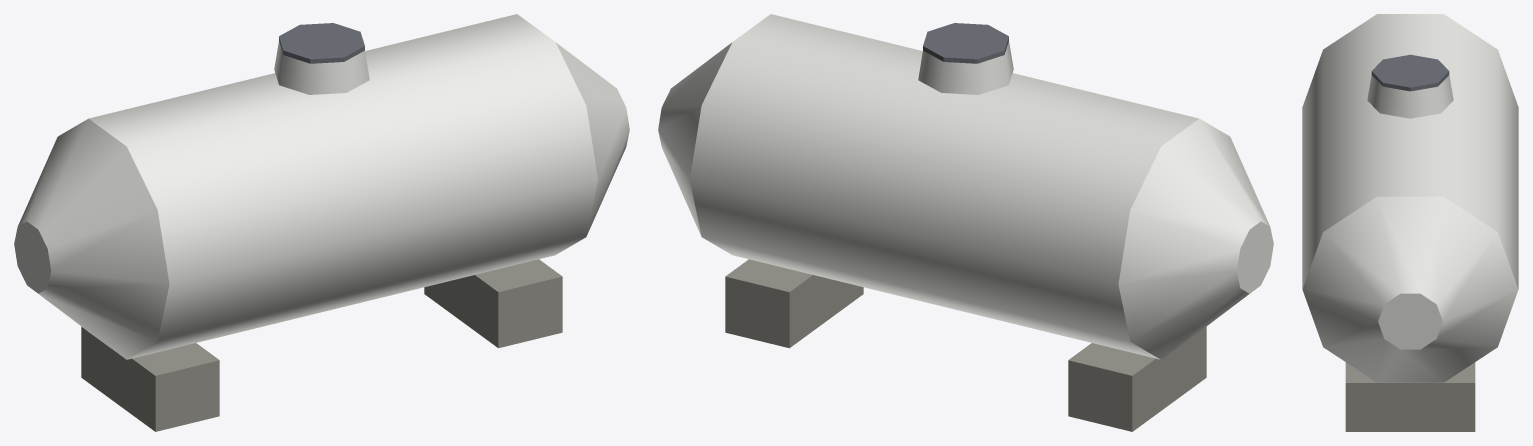
Rendered from propane_tank.glb.
3 views of the same model, side by side, from view 1: azimuth 30°, elevation 25°; view 2: azimuth 150°, elevation 25°; view 3: azimuth 270°, elevation 25° (orthographic). The views are drawn at different scales.
Parts seen in each view (by area): view 1: propane_tank; view 2: propane_tank; view 3: propane_tank.
Part boxes in pixels (x1=…): propane_tank: x1=14, y1=14, x2=629, y2=431; propane_tank: x1=658, y1=14, x2=1273, y2=431; propane_tank: x1=1302, y1=14, x2=1518, y2=431.
Bounding box in the file's own units: 2.7 × 1.4 × 1.
Materials: 1 (1 with a texture image).
